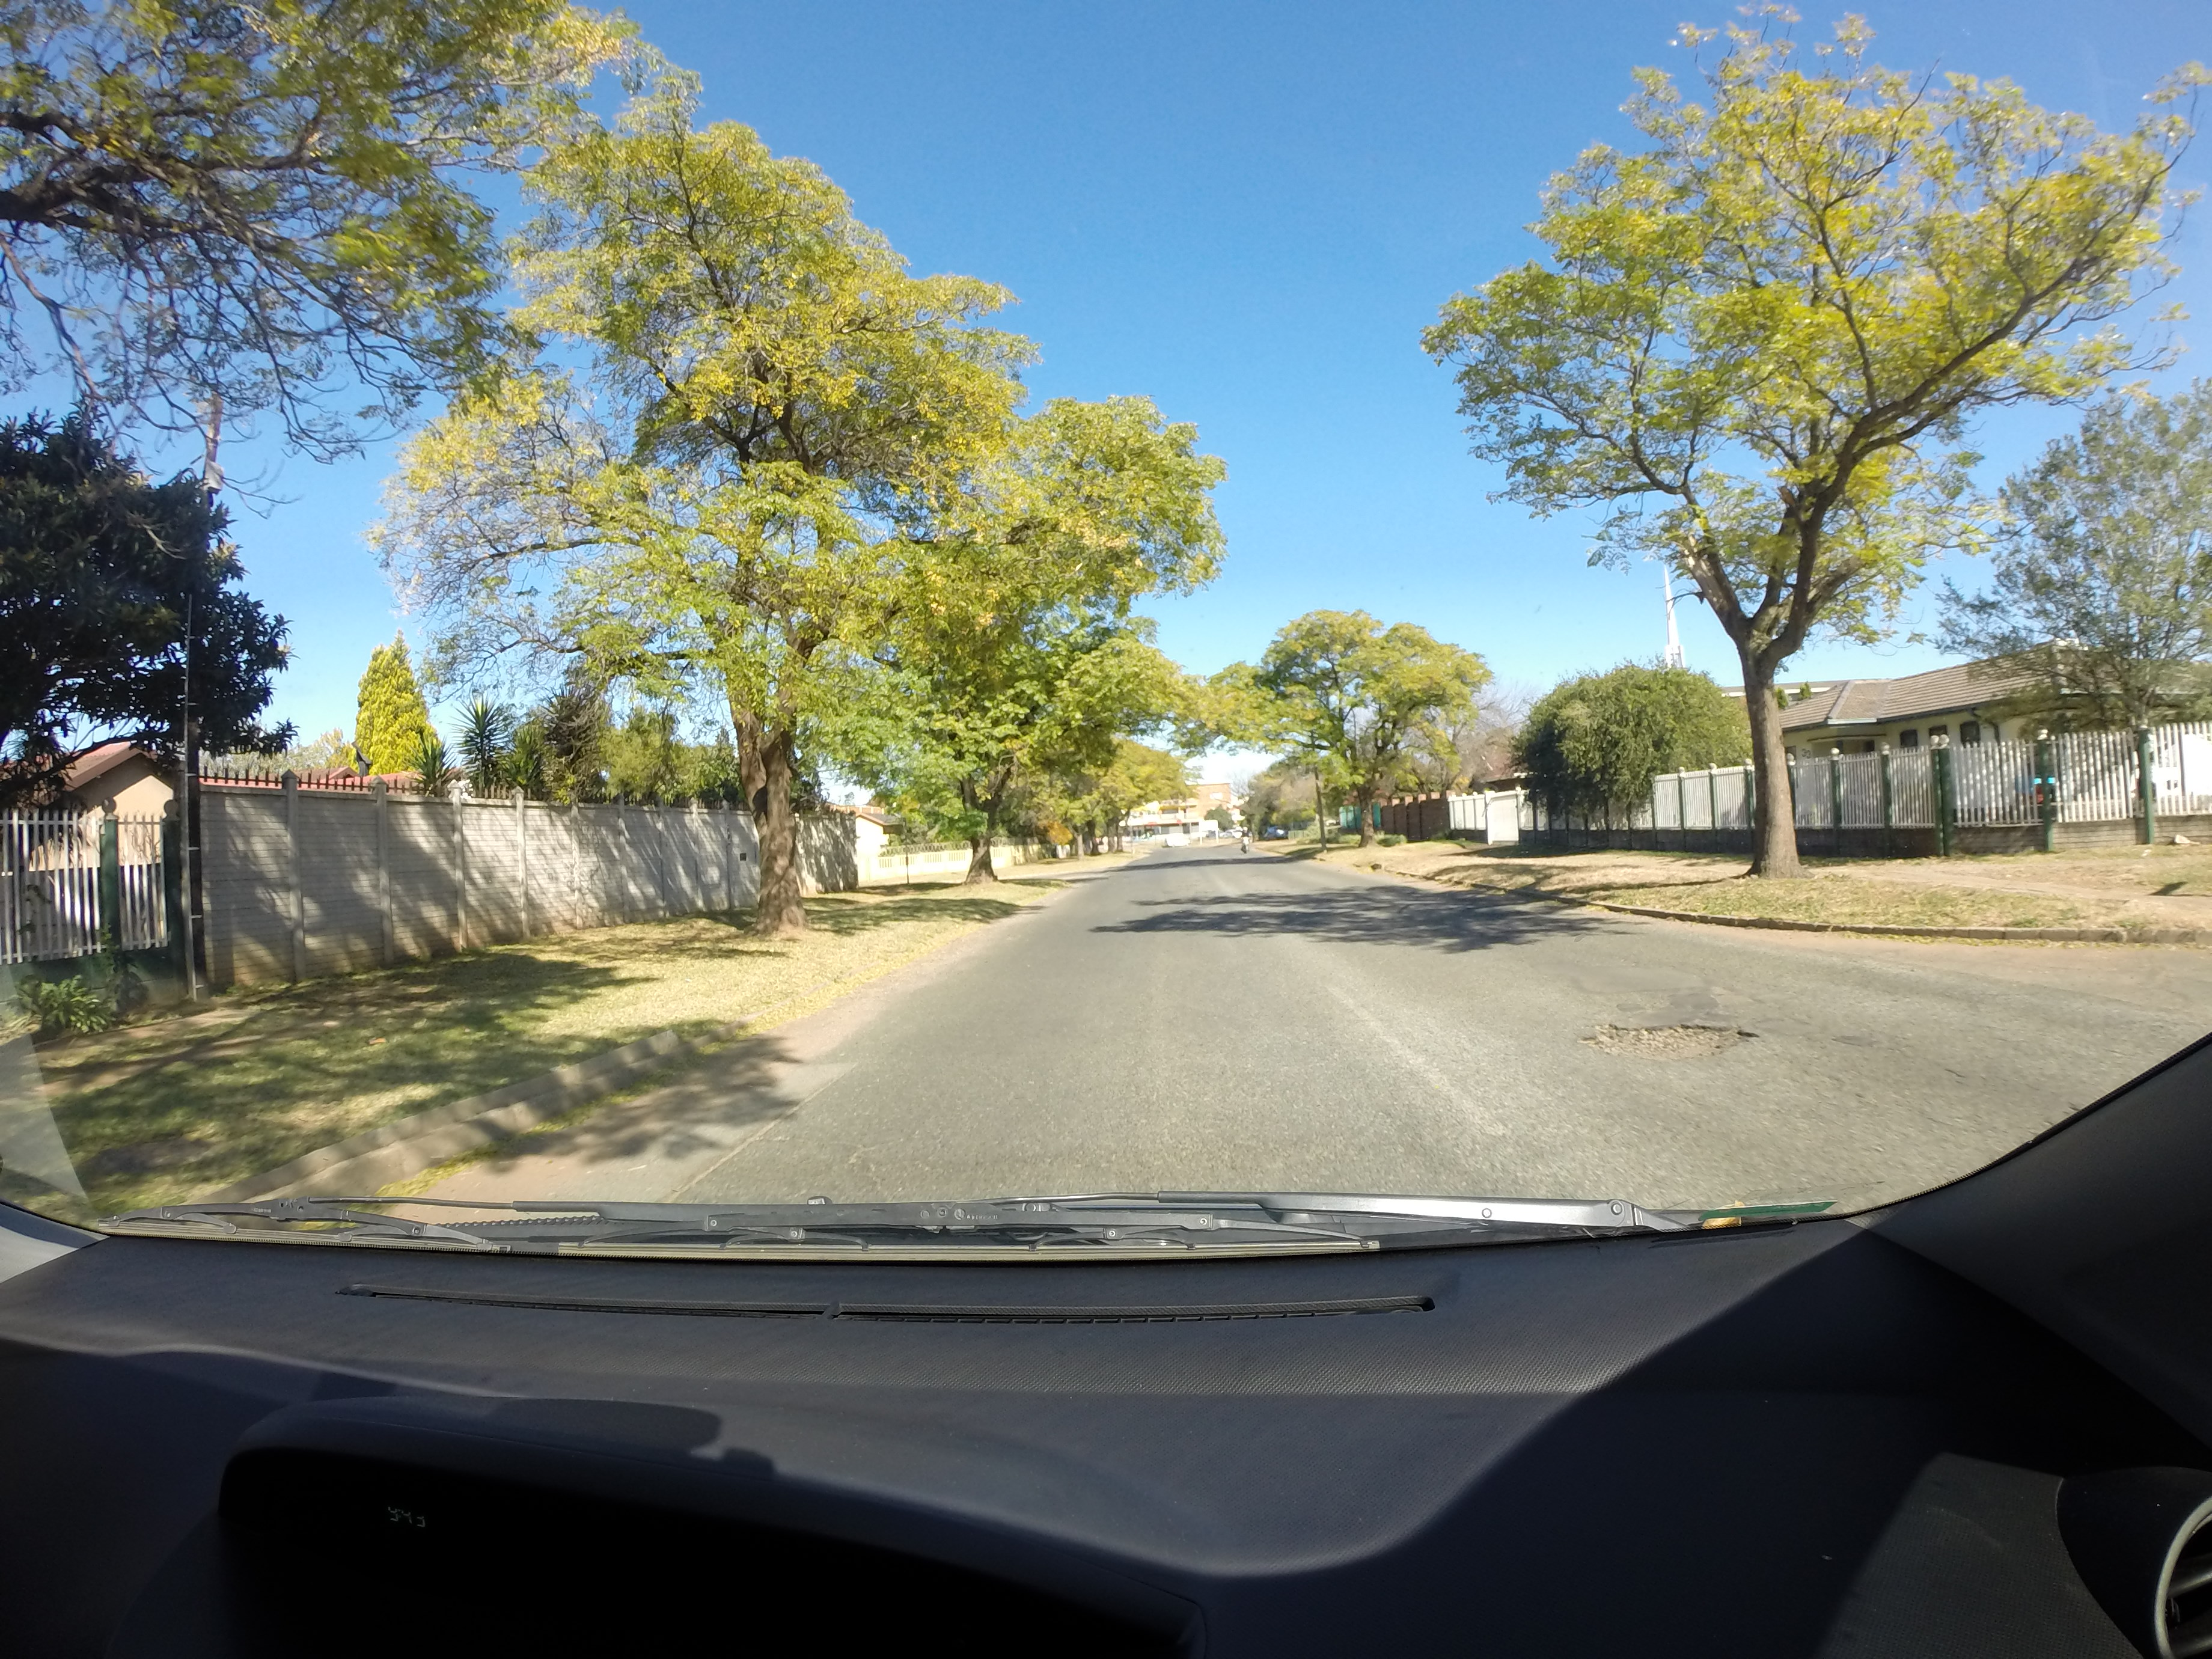pothole: (1573, 1018, 1808, 1087)
